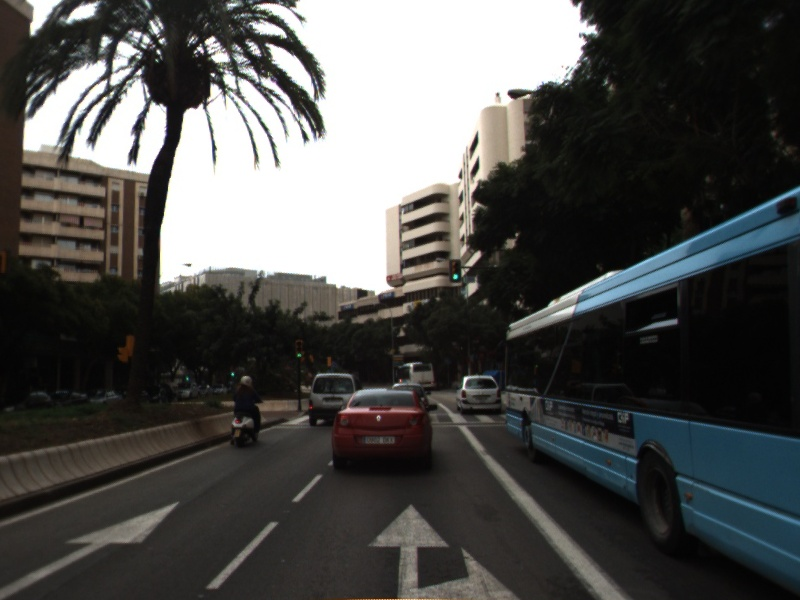STRAIGHT: (1, 498, 186, 600)
STRAIGHT_RIGHT: (363, 499, 522, 600)
